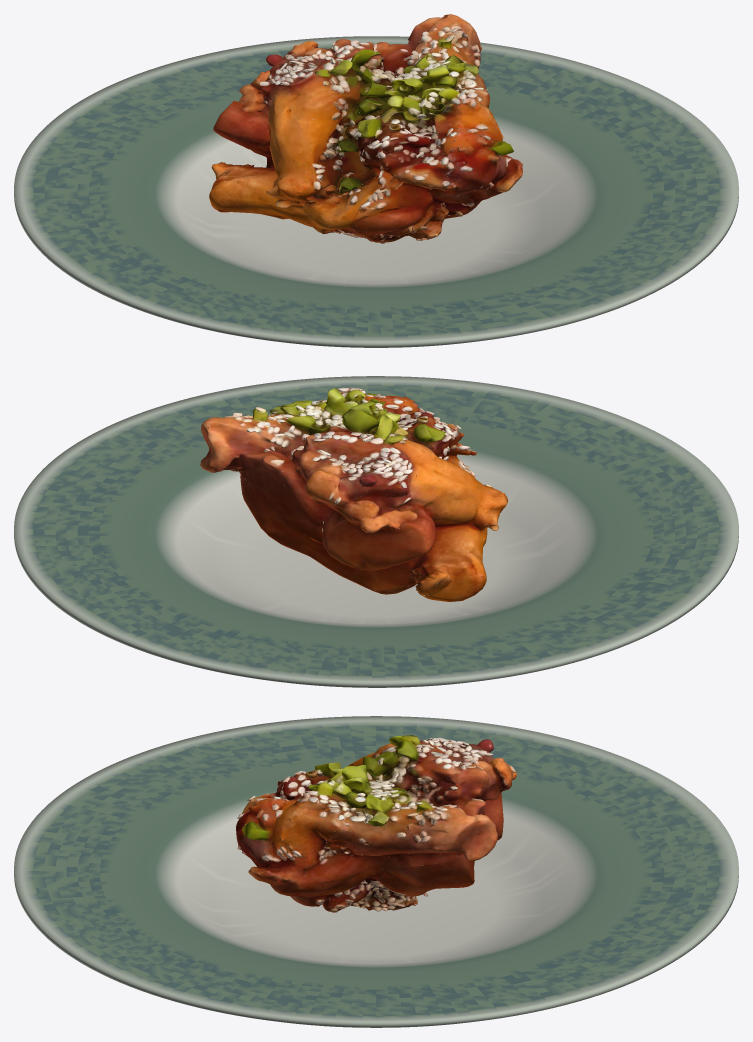
File: qanot2.glb
The picture shows the model from 3 angles, top to bottom: view 1: azimuth 30°, elevation 25°; view 2: azimuth 150°, elevation 25°; view 3: azimuth 270°, elevation 25°; orthographic projection.
Visible parts, largest first — view 1: tarelka, qanot; view 2: tarelka, qanot; view 3: tarelka, qanot.
Part boxes in pixels (x1=…): tarelka: x1=14, y1=36, x2=738, y2=347; qanot: x1=209, y1=14, x2=522, y2=243; tarelka: x1=14, y1=376, x2=738, y2=687; qanot: x1=200, y1=387, x2=507, y2=601; tarelka: x1=14, y1=716, x2=738, y2=1027; qanot: x1=236, y1=735, x2=516, y2=912.
Bounding box in the file's own units: 1.31 × 0.3792 × 1.31.
2 materials, 1 textured.
